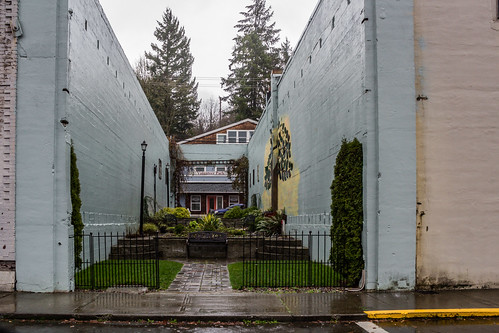building: (247, 1, 492, 288), (17, 1, 169, 284), (171, 121, 249, 220)
sidewalk: (1, 282, 499, 325)
tree: (222, 1, 296, 118), (141, 9, 202, 142)
